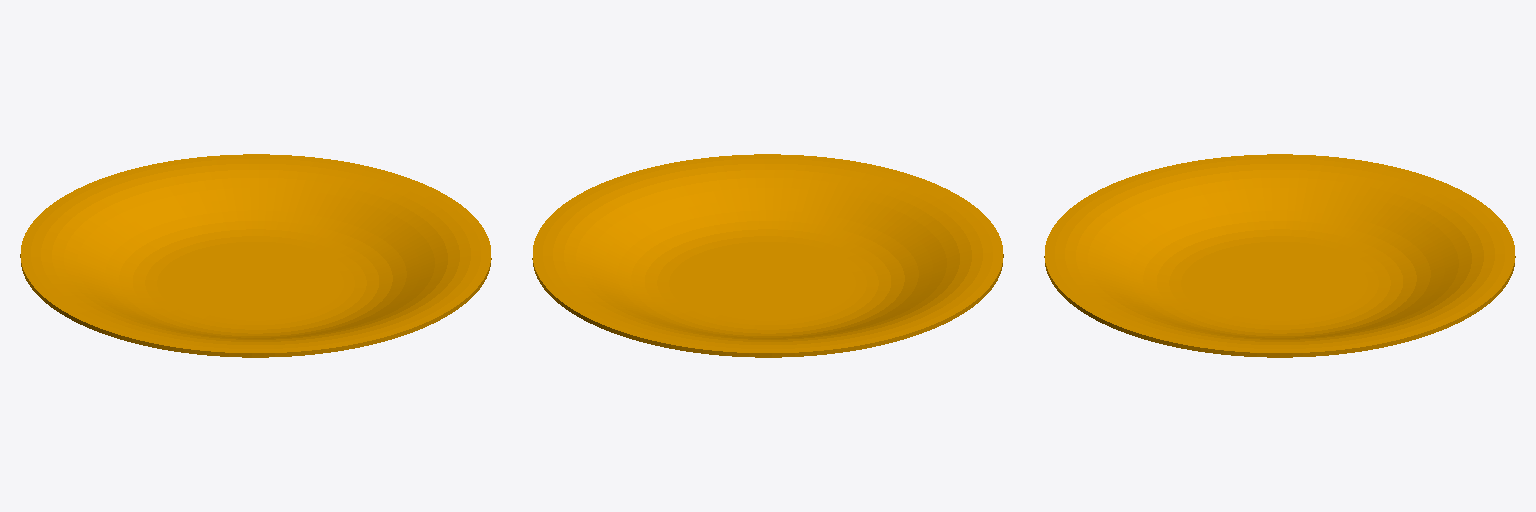
URDF robot description (plate):
<?xml version="1.0" ?>
<robot name="plate">
  <link name="plate">
    <inertial>
      <origin rpy="0 0 0" xyz="0 0 0"/>
      <mass value="1.0"/>
      <inertia ixx="1.821E-05" ixy="-4.1084E-09" ixz="-1.448E-07" iyy="1.062E-05" iyz="-1.5136E-09" izz="1.0557E-05"/>
    </inertial>
    <visual>
      <origin rpy="0 0 0" xyz="0 0 0"/>
      <geometry>
        <mesh filename="plate.obj"/>
      </geometry>
    </visual>
    <collision>
      <origin rpy="0 0 0" xyz="0 0 0"/>
      <geometry>
        <mesh filename="plate.dae"/>
      </geometry>
    </collision>
  </link>
</robot>

--- Facts derived from the render (not from the file) ---
3 views of the same robot in one strip: view 1: azimuth 30°, elevation 25°; view 2: azimuth 150°, elevation 25°; view 3: azimuth 270°, elevation 25° (orthographic).
Model plate with 1 links and 0 joints (none), rooted at plate, posed all joints at 0.
Visible links, largest first — view 1: plate; view 2: plate; view 3: plate.
Boxes of the visible links, left/top/right/bottom form: plate: left=20, top=154, right=491, bottom=357; plate: left=532, top=154, right=1003, bottom=357; plate: left=1044, top=154, right=1515, bottom=357.
Size in the robot's own frame: 0.2981 by 0.2981 by 0.0237 metres.
Meshes: 1 distinct files referenced, 1 mesh visuals loaded (1 OBJ).